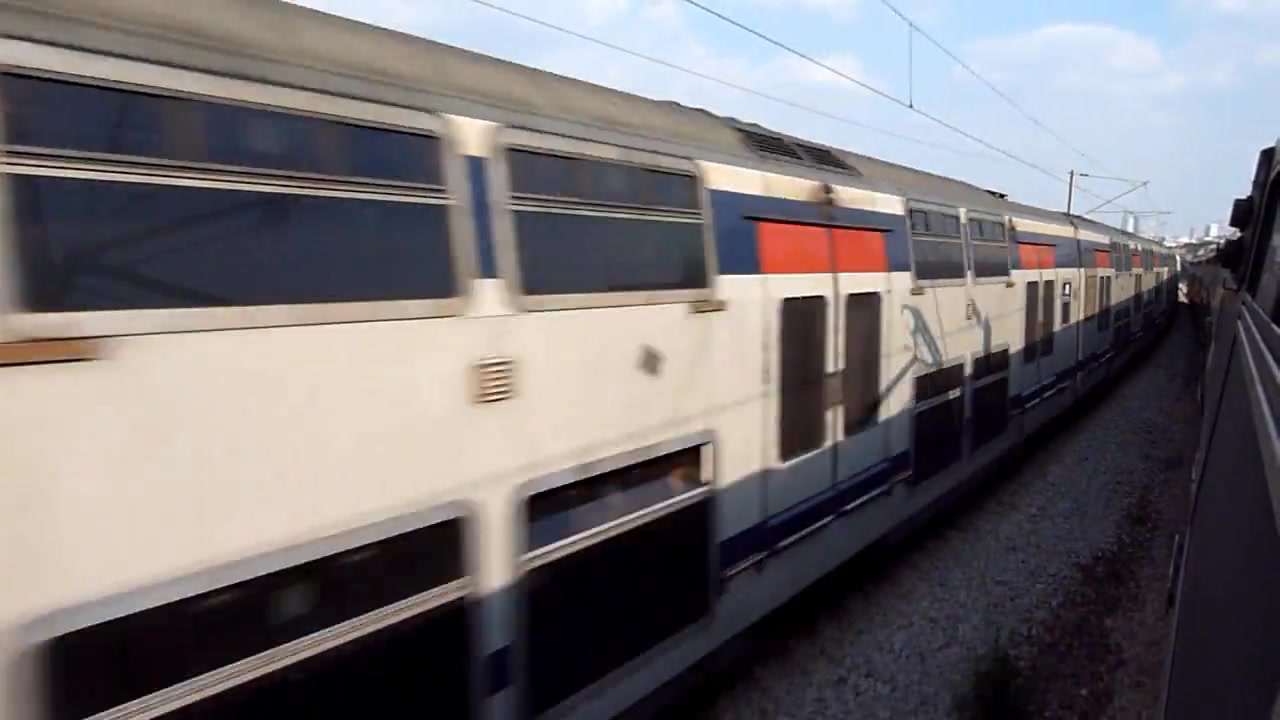train: (1, 1, 1184, 720)
